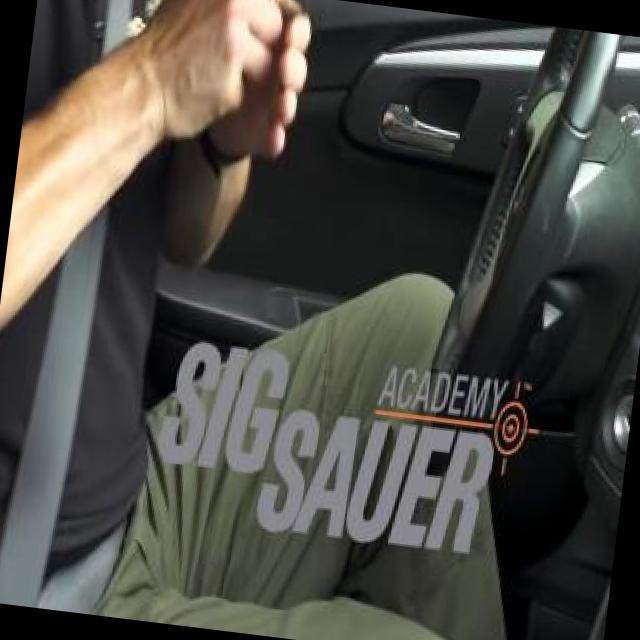Guns: (181, 0, 382, 11)
